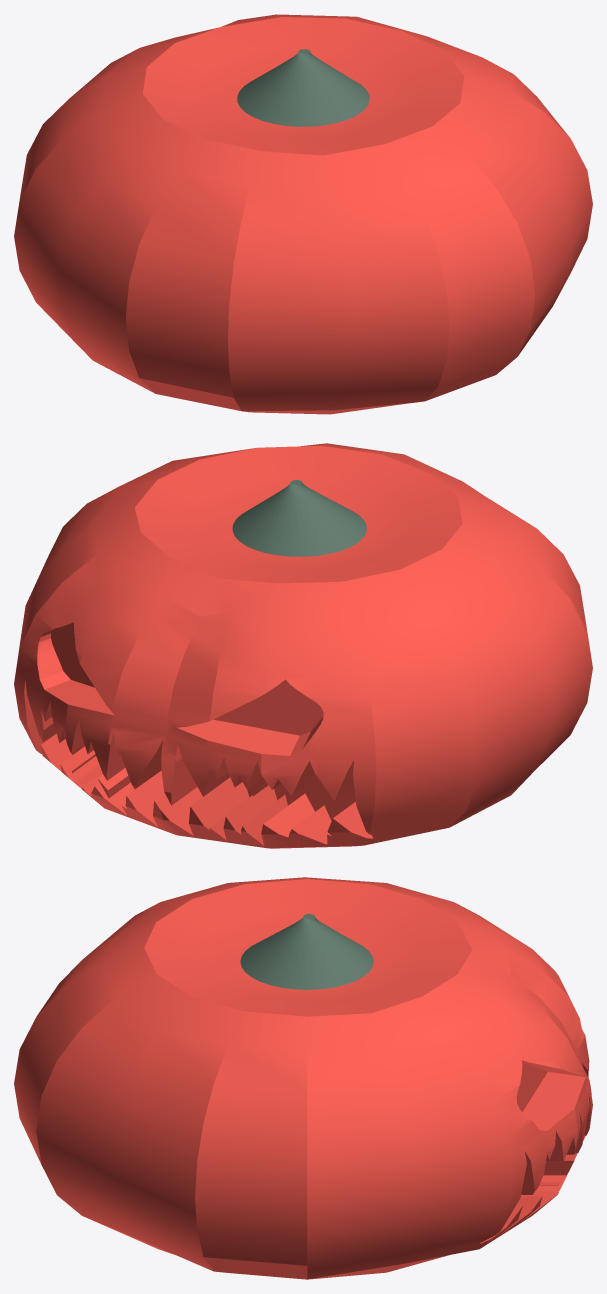
The model's file is Jack.fbx.
3 views of the same model, one above another, from view 1: azimuth 30°, elevation 25°; view 2: azimuth 150°, elevation 25°; view 3: azimuth 270°, elevation 25° (orthographic).
Parts seen in each view (by area): view 1: JackoLanturn; view 2: JackoLanturn; view 3: JackoLanturn.
Boxes of the visible parts, x1,y1,x2,y2 form: JackoLanturn: [14, 14, 592, 414]; JackoLanturn: [14, 443, 592, 848]; JackoLanturn: [14, 877, 592, 1279].
Size of the model in its own units: 198 by 104 by 197.
